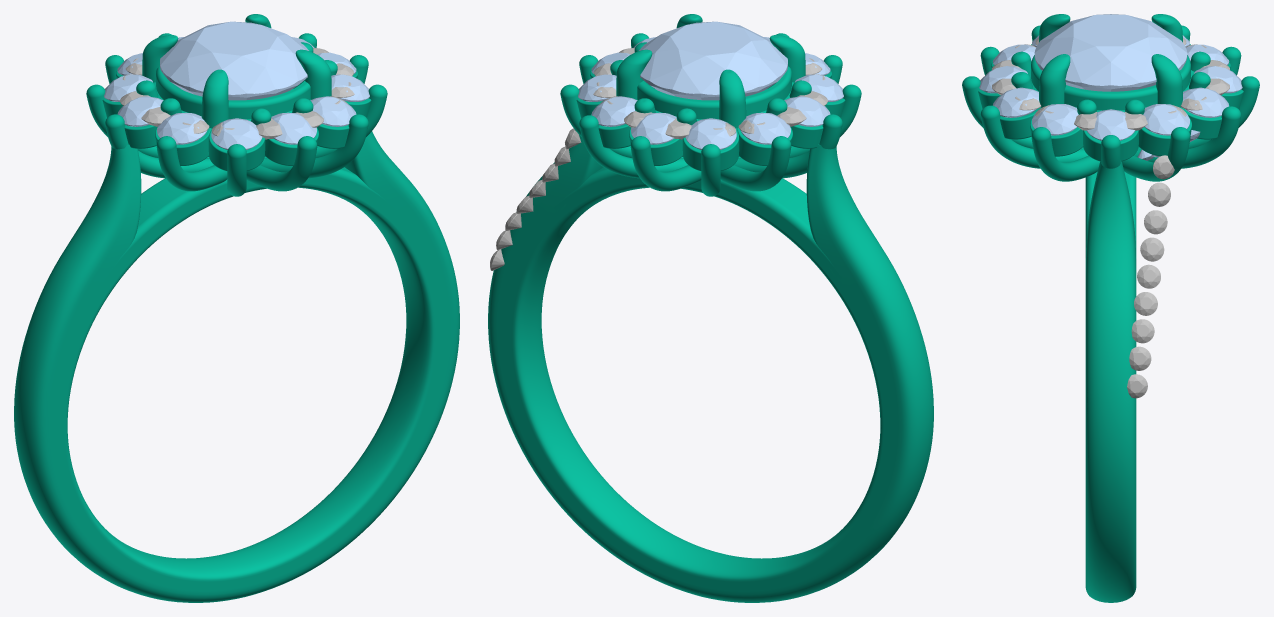
3 views of the same model, side by side, from view 1: azimuth 30°, elevation 25°; view 2: azimuth 150°, elevation 25°; view 3: azimuth 270°, elevation 25° (orthographic).
Visible parts, largest first — view 1: JTC-12314(front).3dm, Diamond_Round (×8); view 2: JTC-12314(front).3dm, Diamond_Round (×8); view 3: JTC-12314(front).3dm, Diamond_Round (×18).
Part boxes in pixels (x1,y1,x2,y2): JTC-12314(front).3dm: (14, 14, 459, 602); Diamond_Round (×8): (104, 21, 369, 149); JTC-12314(front).3dm: (488, 14, 933, 602); Diamond_Round (×8): (578, 21, 843, 149); JTC-12314(front).3dm: (962, 14, 1259, 602); Diamond_Round (×18): (979, 14, 1242, 398).
Size of the model in its own units: 2.37 by 2.89 by 1.42.
